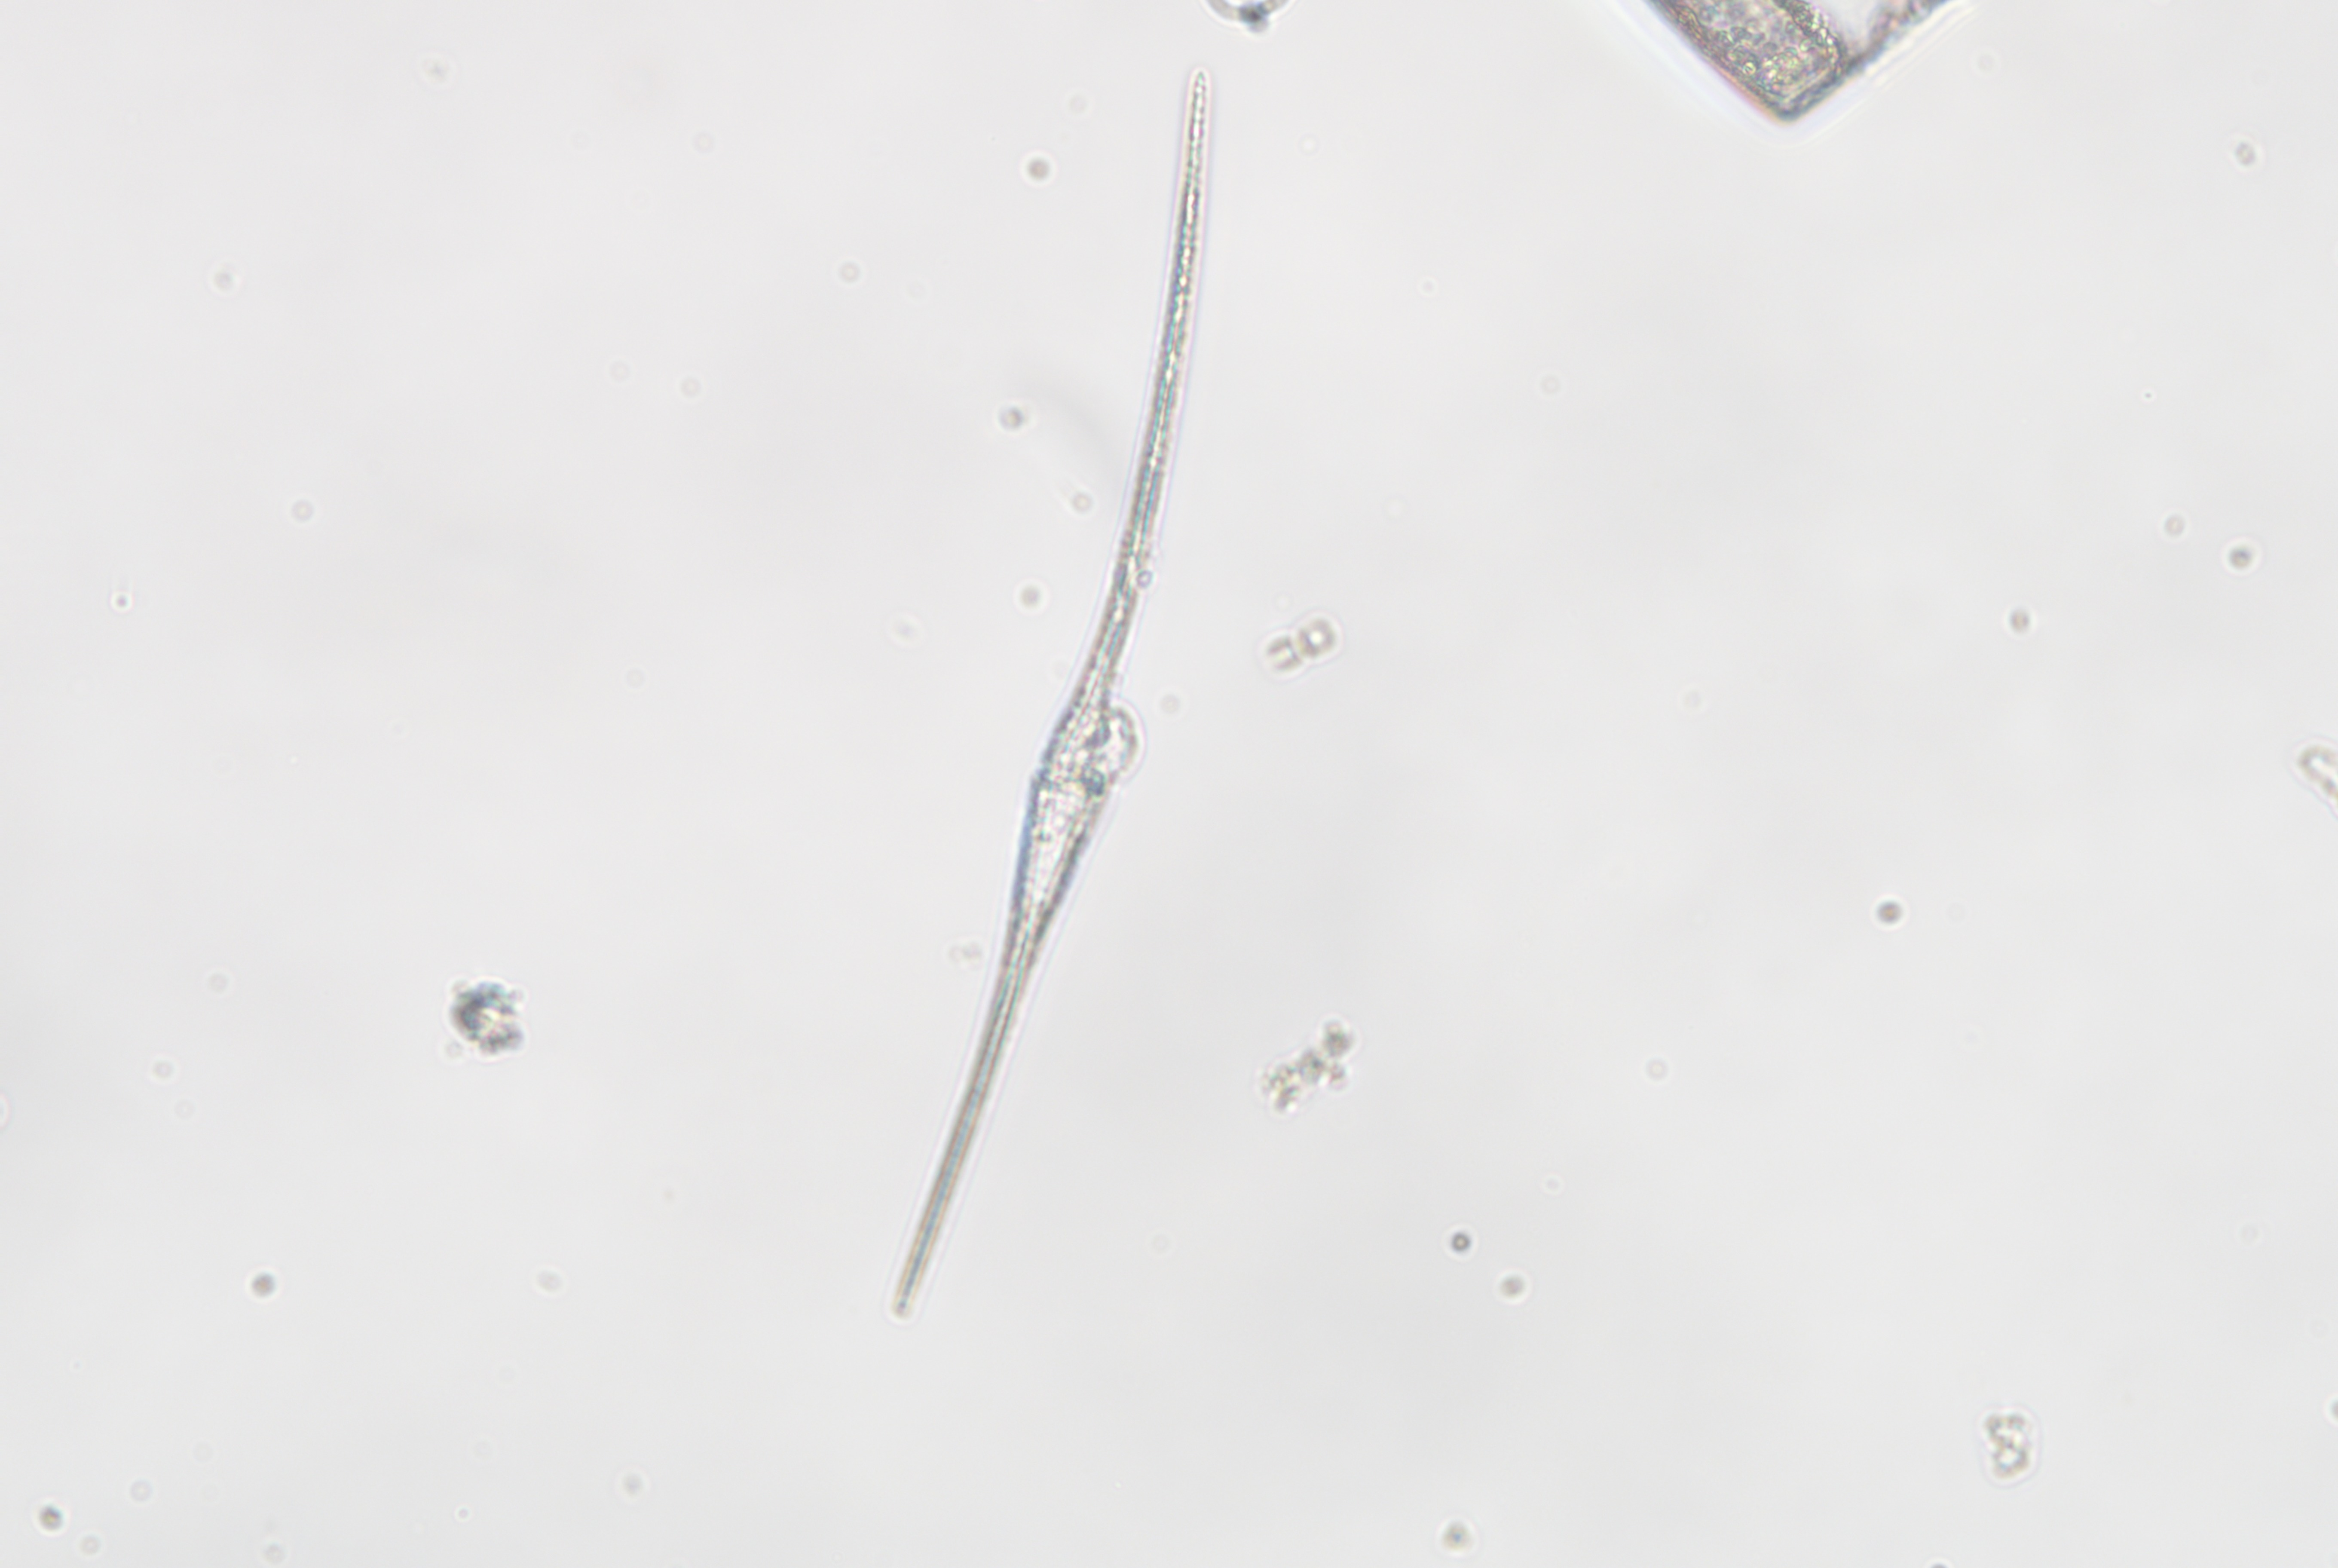ceratium fusus: (887, 72, 1209, 1323)
